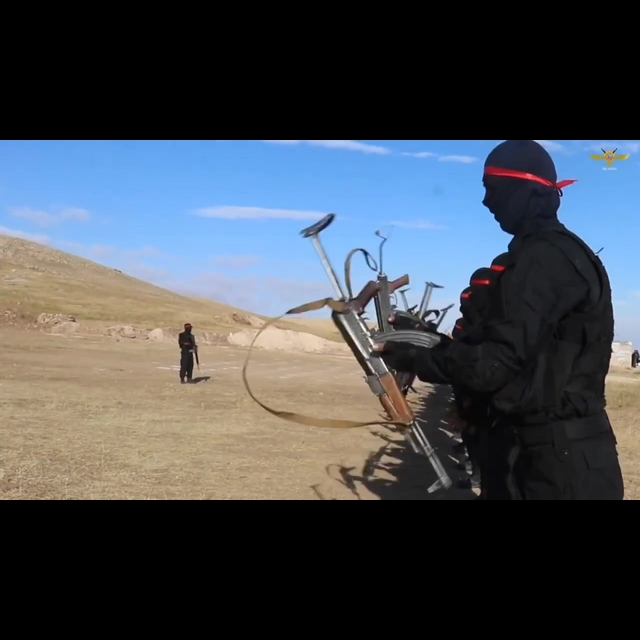AK47: (319, 285, 453, 492)
